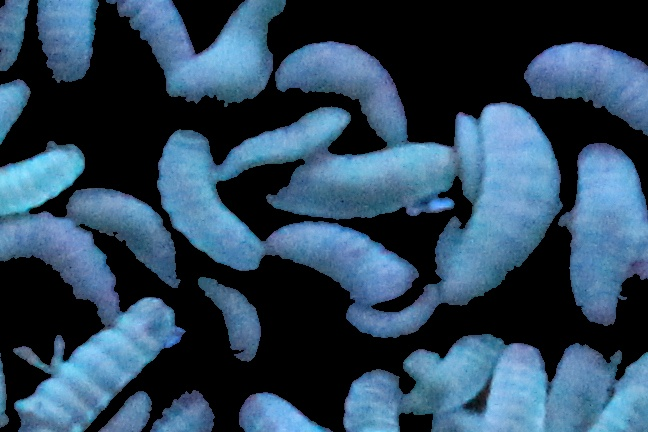larvae: (446, 103, 547, 316), (16, 299, 179, 429), (148, 122, 267, 274), (160, 1, 291, 109), (281, 142, 462, 220), (279, 48, 419, 145), (1, 214, 123, 321), (571, 142, 646, 315), (520, 34, 648, 132), (66, 187, 184, 287), (287, 149, 453, 213), (271, 226, 412, 300), (221, 112, 354, 166), (111, 1, 194, 87), (416, 330, 496, 412), (1, 143, 88, 215), (199, 274, 266, 361), (339, 287, 438, 338), (556, 347, 616, 430), (492, 345, 549, 432), (37, 1, 97, 83), (339, 360, 407, 432), (234, 388, 326, 432), (450, 111, 492, 207), (1, 81, 31, 169), (1, 1, 27, 72)
